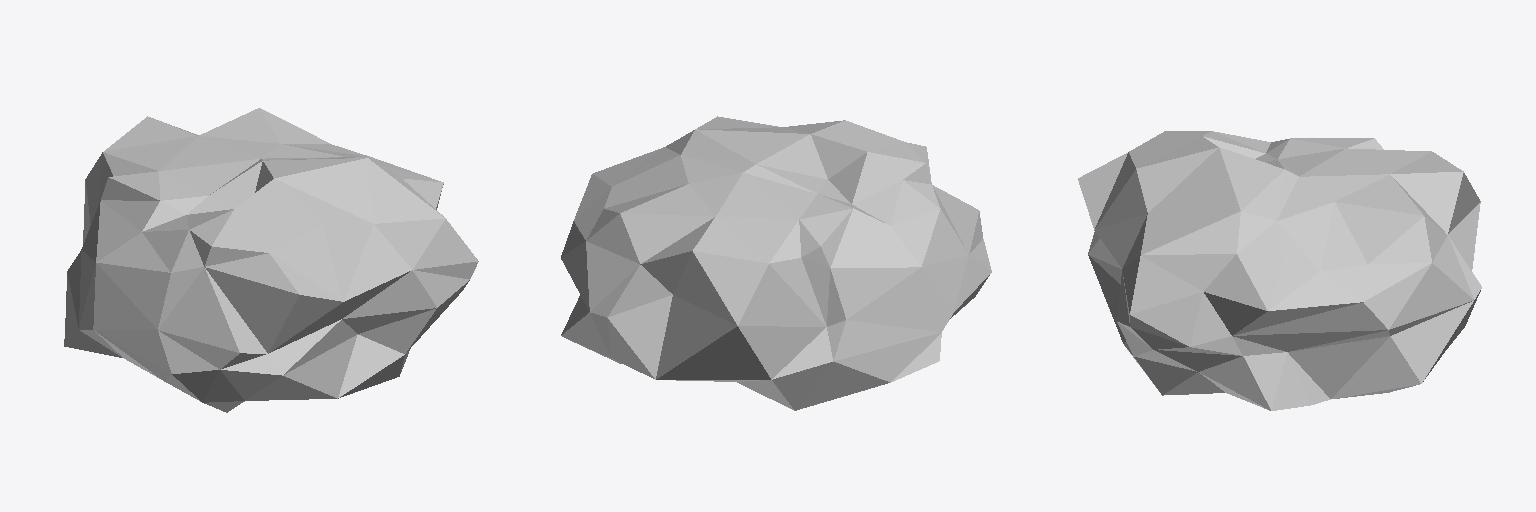
File: rock.obj
3 renders of one model, left to right at view 1: azimuth 30°, elevation 25°; view 2: azimuth 150°, elevation 25°; view 3: azimuth 270°, elevation 25°, orthographic.
Visible parts, largest first — view 1: Cube; view 2: Cube; view 3: Cube.
Part boxes in pixels (x1,y1,x2,y2): Cube: (64,108,478,412); Cube: (561,116,991,410); Cube: (1078,131,1481,410).
Size of the model in its own units: 3.59 by 1.93 by 3.46.